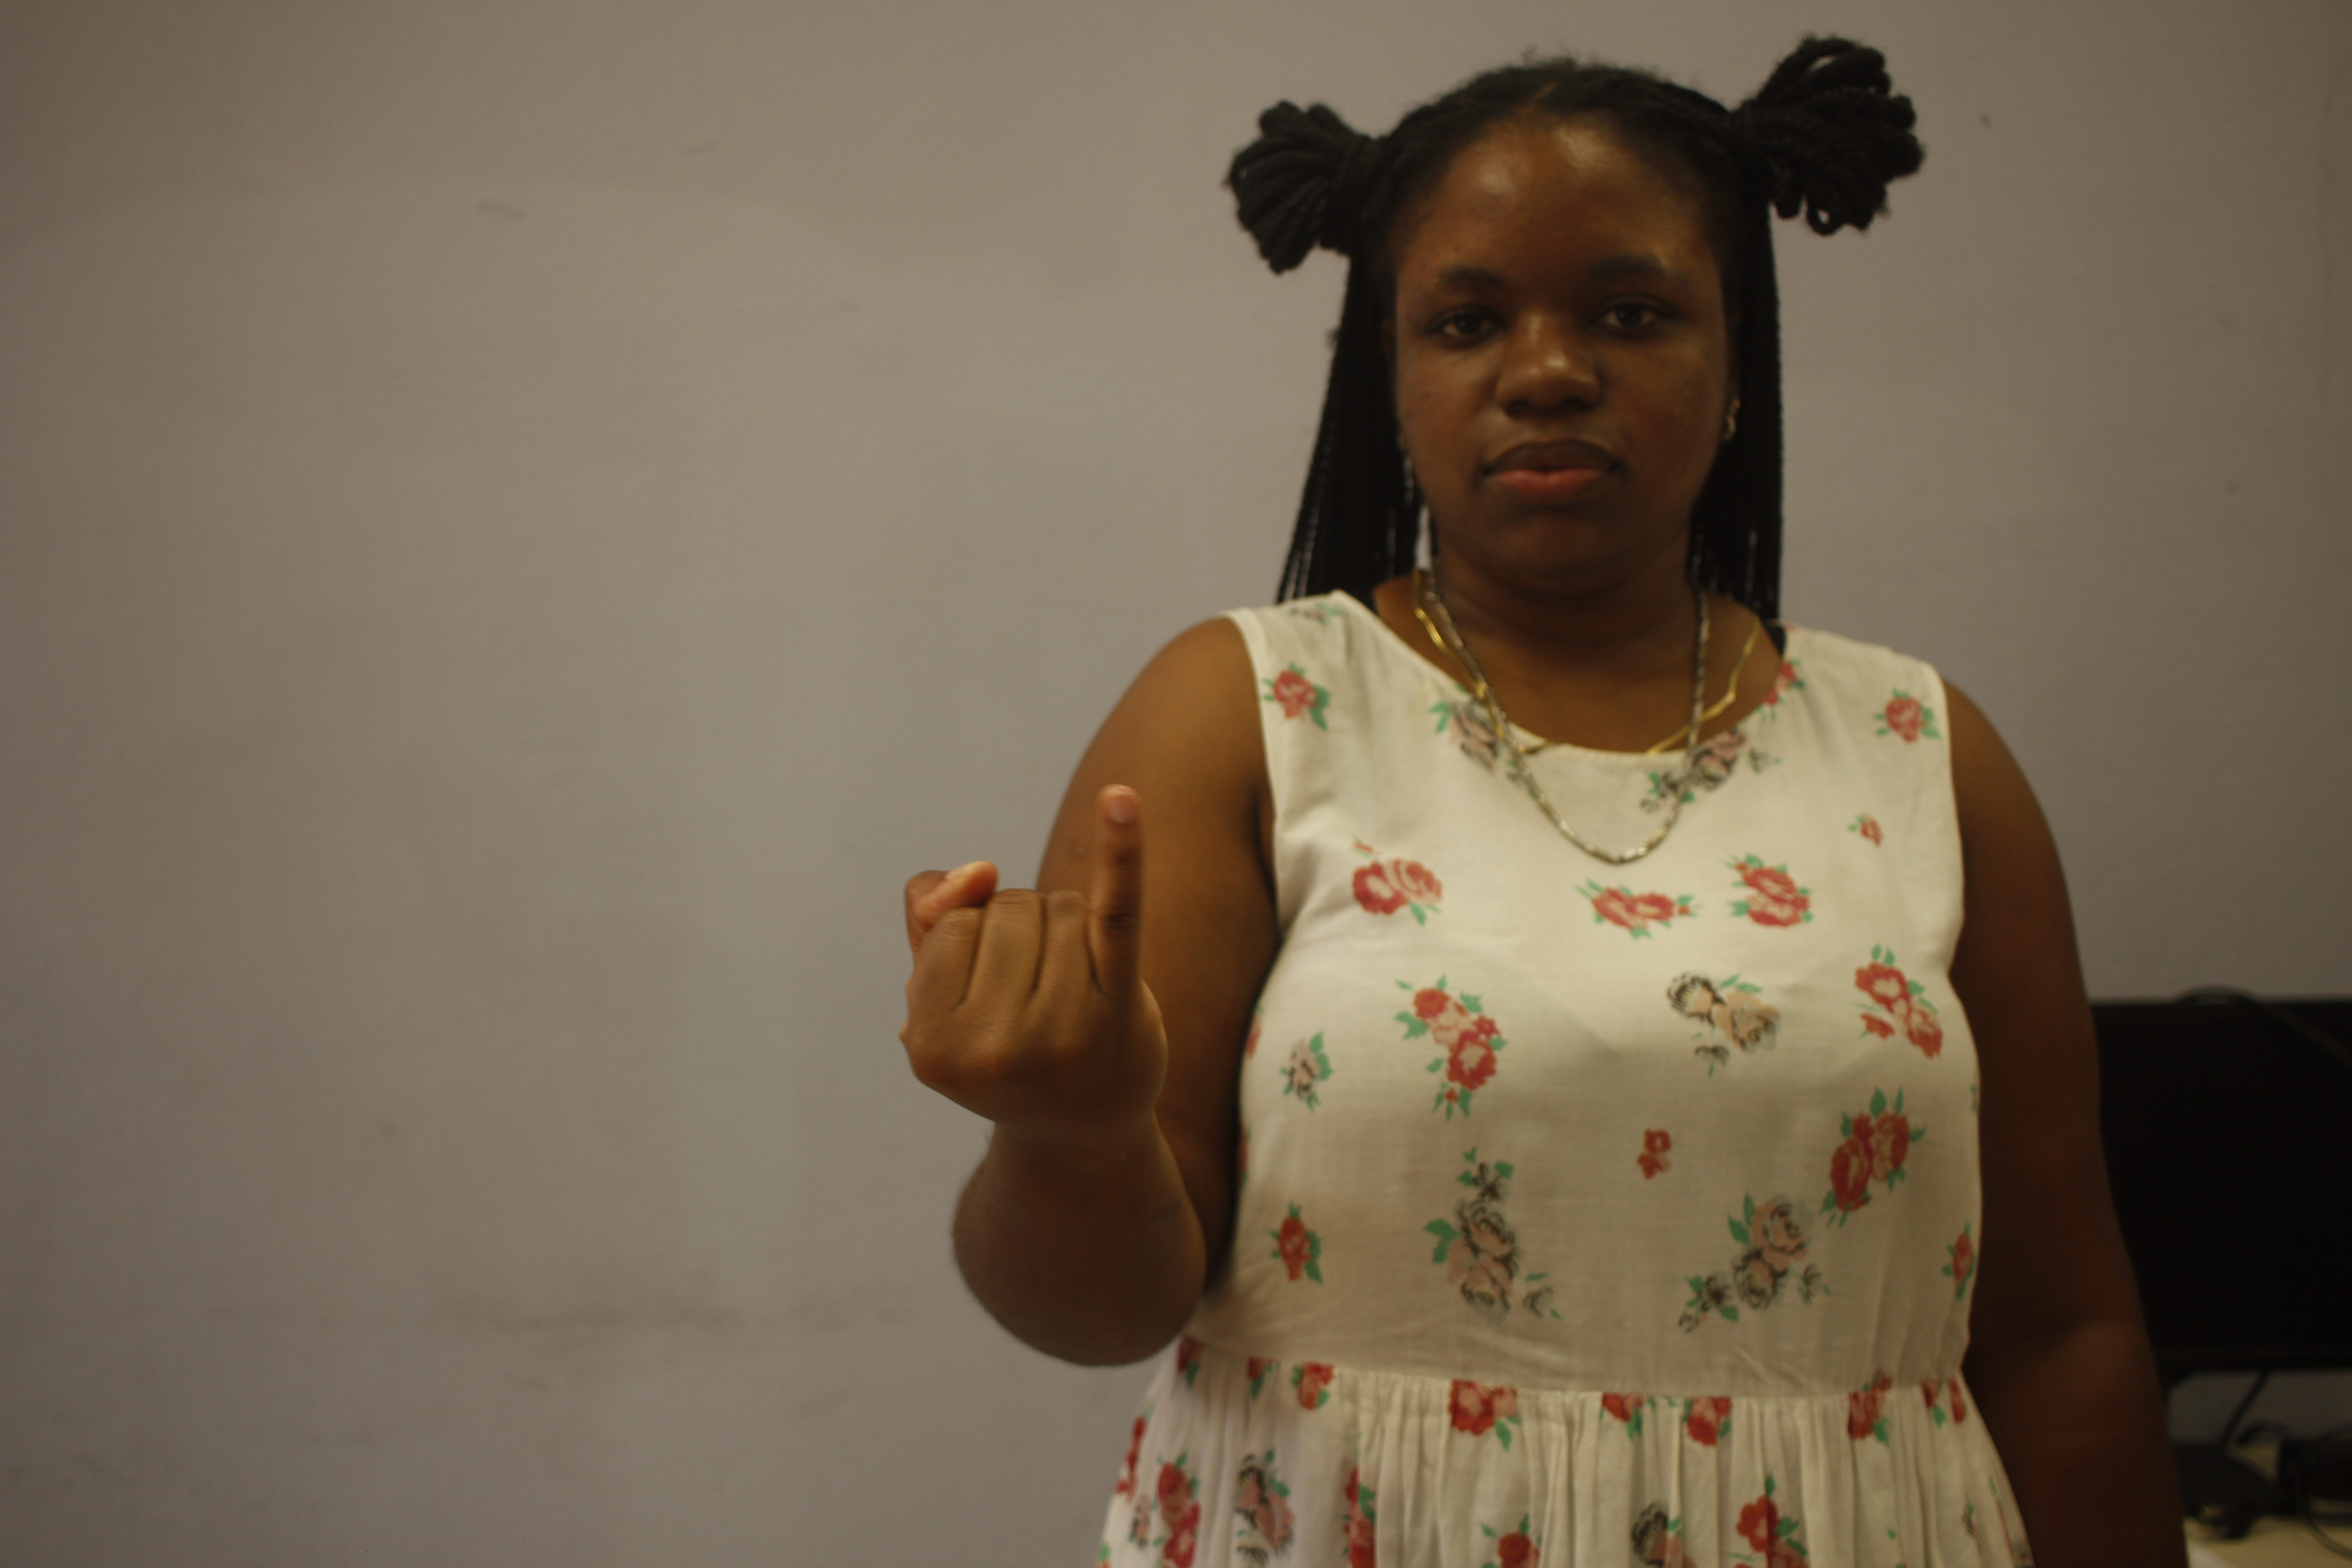J: (878, 758, 1179, 1127)
